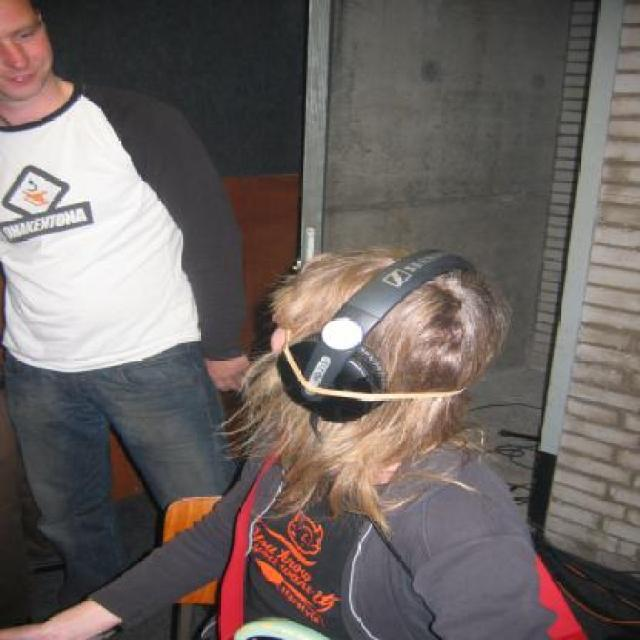earphone: (274, 245, 508, 420)
